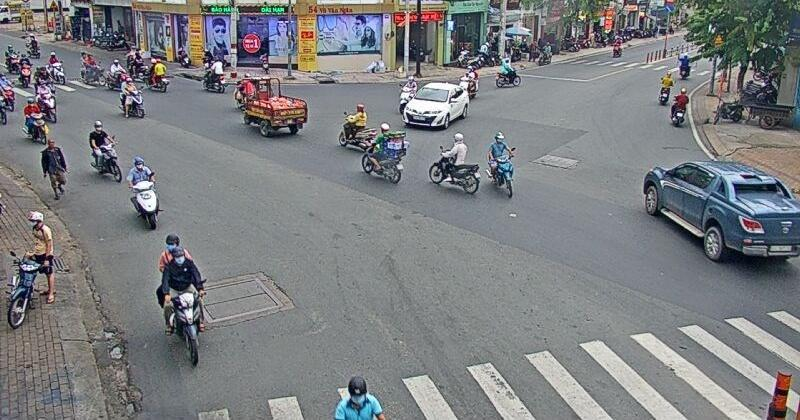xe hoi: (642, 161, 800, 262), (402, 82, 468, 129)
xe may: (155, 233, 204, 365), (428, 132, 481, 194), (361, 122, 404, 183), (127, 155, 158, 231), (87, 121, 122, 181), (485, 132, 515, 198), (338, 103, 376, 149), (23, 97, 47, 144), (118, 76, 145, 117), (36, 79, 57, 123), (670, 87, 689, 126)
